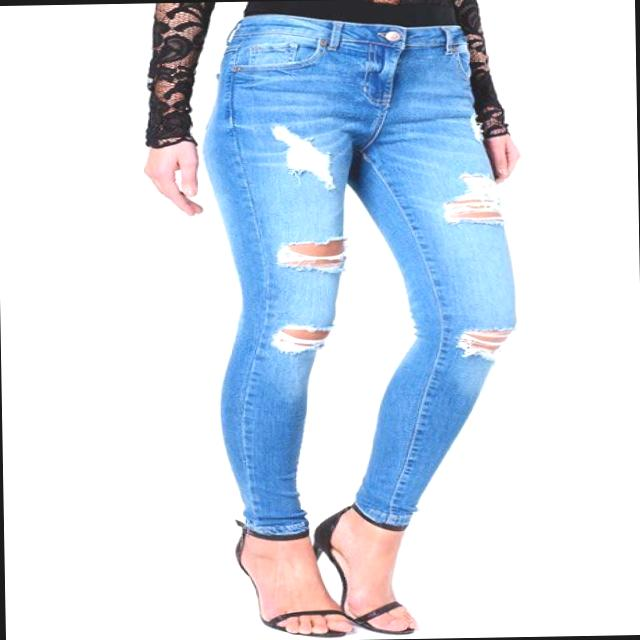pants: (198, 11, 522, 538)
